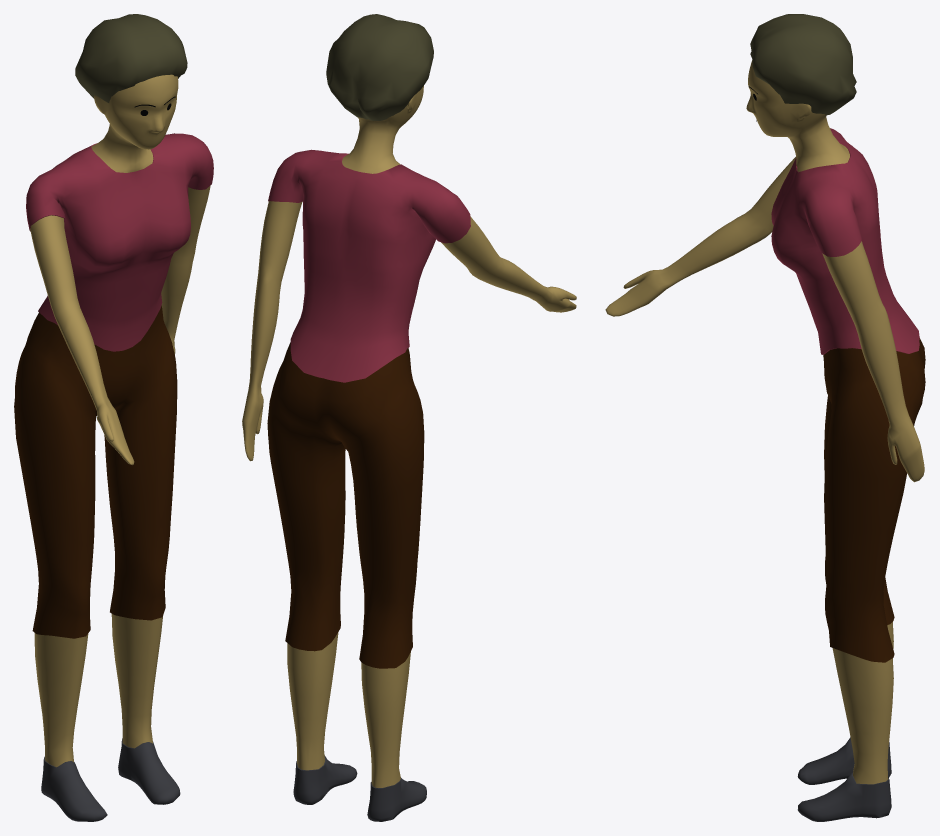
File: Female_Handing_Object.glb
3 views of the same model, side by side, from view 1: azimuth 30°, elevation 25°; view 2: azimuth 150°, elevation 25°; view 3: azimuth 270°, elevation 25° (orthographic). The views are drawn at different scales.
Parts seen in each view (by area): view 1: Female-Handing-Object; view 2: Female-Handing-Object; view 3: Female-Handing-Object.
Boxes of the visible parts, x1=… form: Female-Handing-Object: x1=14, y1=14, x2=213, y2=821; Female-Handing-Object: x1=242, y1=14, x2=576, y2=821; Female-Handing-Object: x1=605, y1=14, x2=925, y2=821.
Bounding box in the file's own units: 0.4626 × 1.68 × 0.6267.
